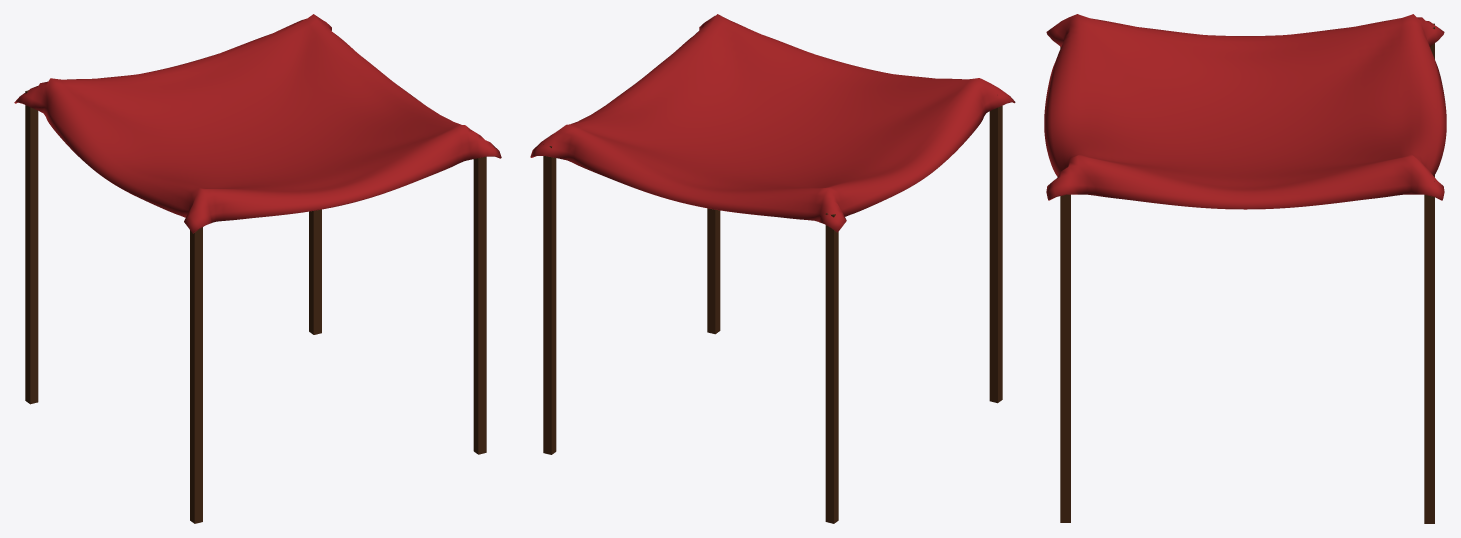
File: big tarp with fixed norms.fbx
The picture shows the model from 3 angles, left to right: view 1: azimuth 30°, elevation 25°; view 2: azimuth 150°, elevation 25°; view 3: azimuth 270°, elevation 25°; orthographic projection. The views are drawn at different scales.
Visible parts, largest first — view 1: Plane.008; view 2: Plane.008; view 3: Plane.008.
Part boxes in pixels (x1,y1,x2,y2): Plane.008: (14,14,501,523); Plane.008: (530,14,1015,523); Plane.008: (1044,14,1446,523).
Bounding box in the file's own units: 433 × 433 × 428.
